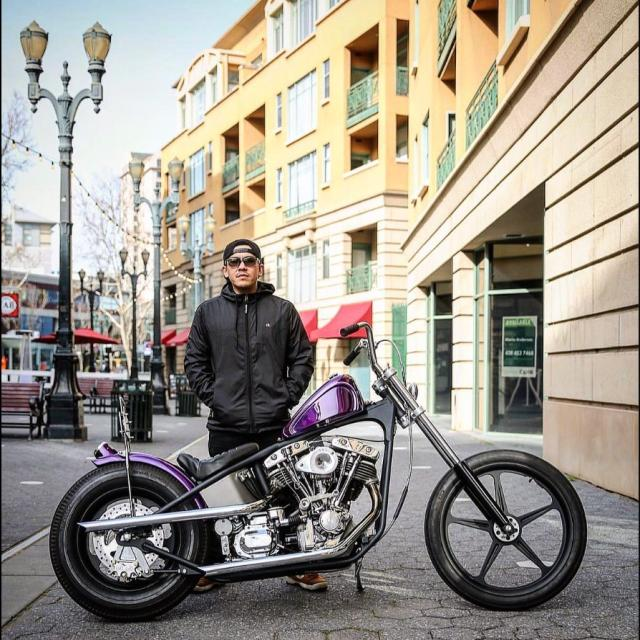illegal_helmet: (218, 235, 266, 291)
